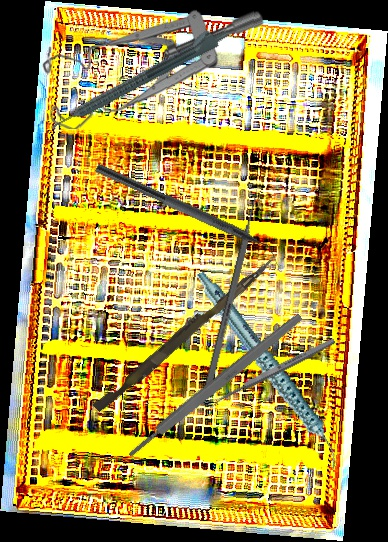Chopper: (88, 162, 290, 270)
Handpiece: (195, 251, 343, 489), (44, 20, 232, 134)
Pusher: (92, 251, 275, 418), (202, 183, 263, 395)
Scalpel Handle: (125, 311, 305, 460)
Speculum: (39, 3, 266, 136)
Surgical Spoon: (206, 336, 337, 409)
